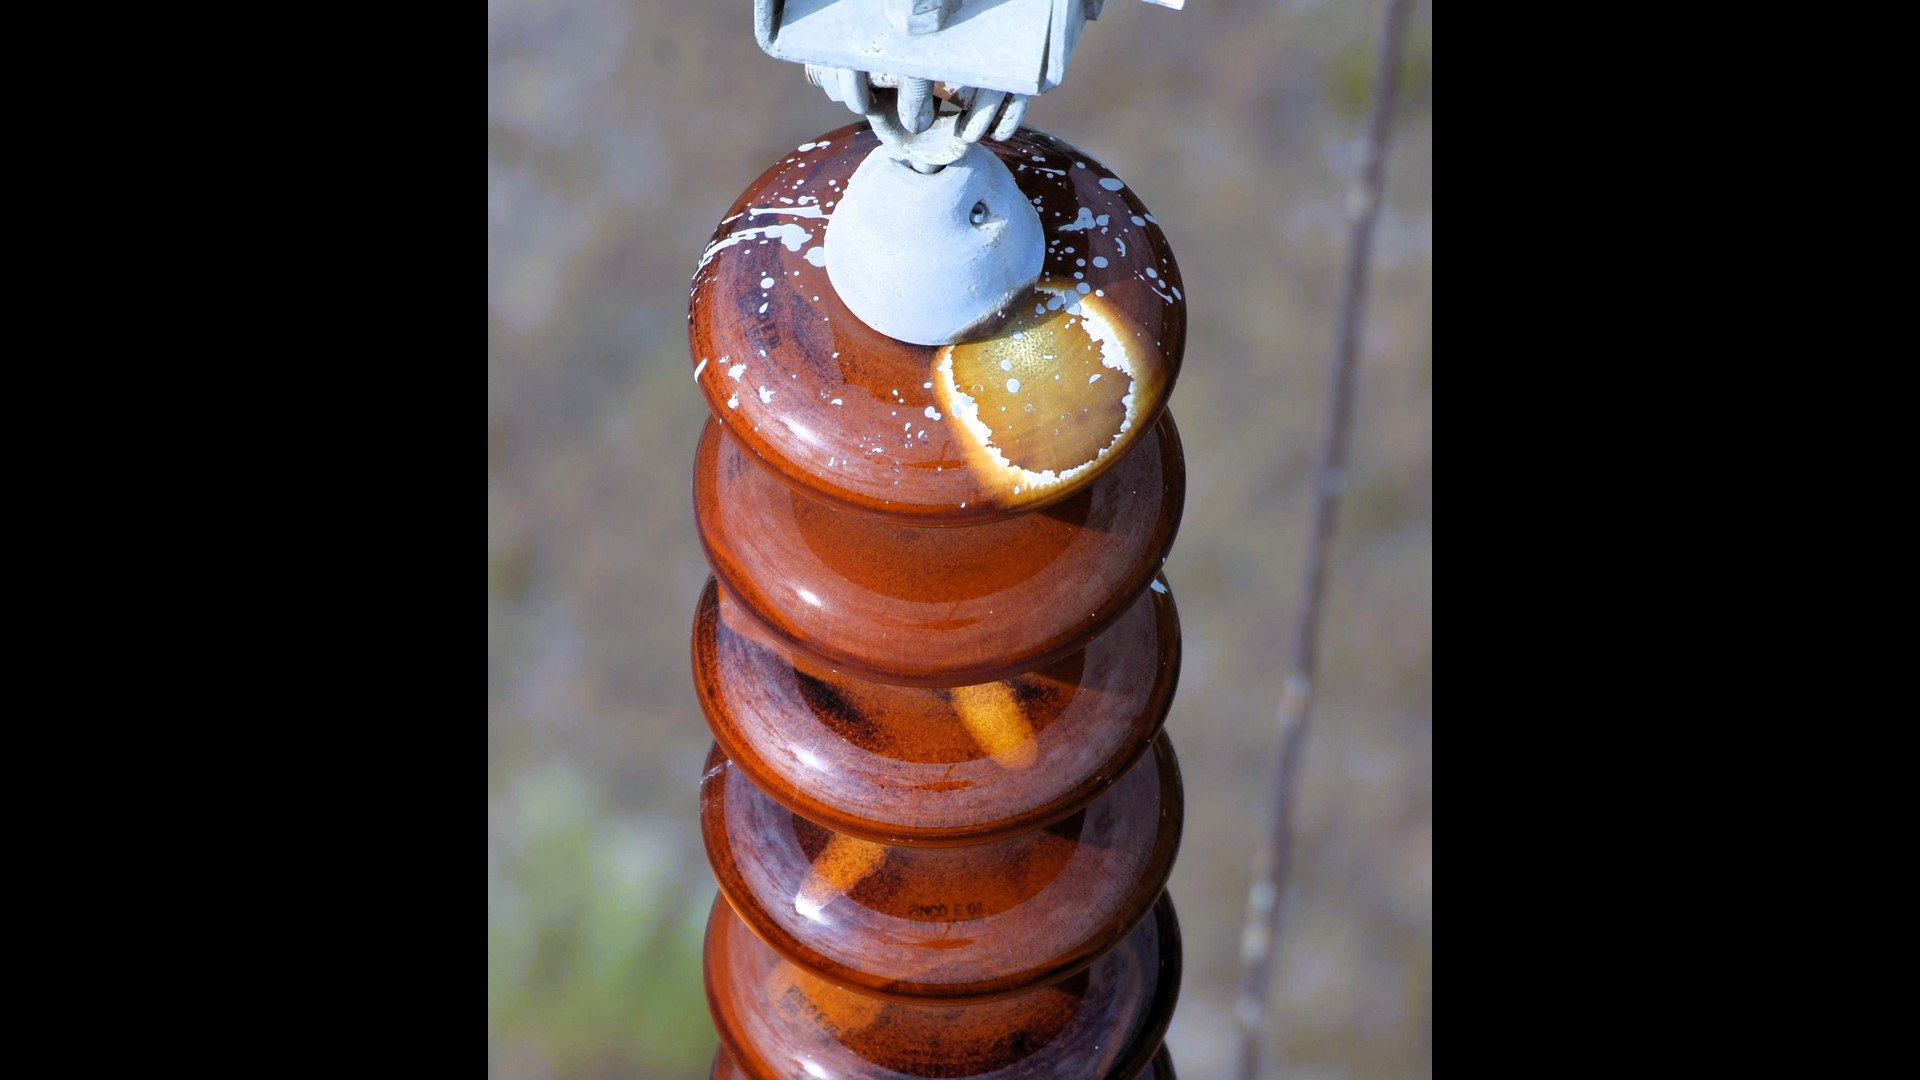Insulator flashover: (665, 107, 1200, 524)
